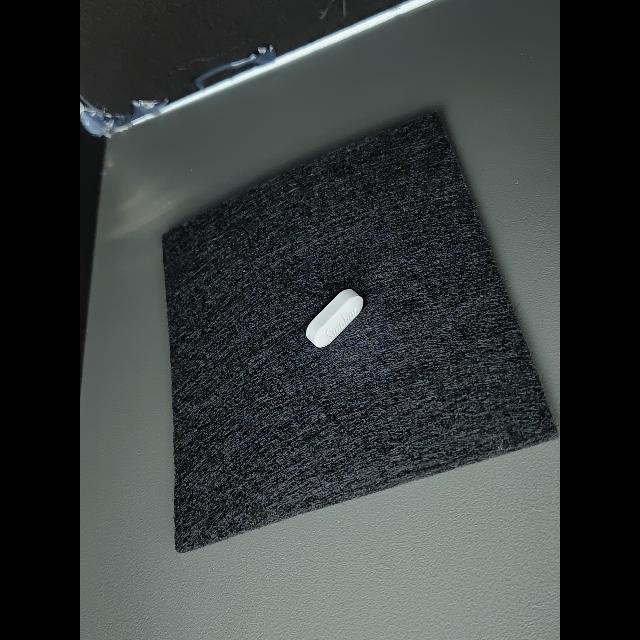Intact Pill: (306, 289, 363, 348)
